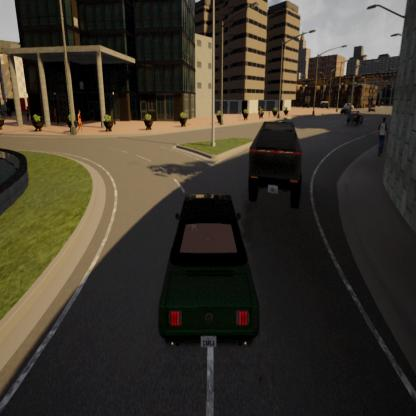Cars: (140, 184, 269, 357), (242, 114, 307, 217), (344, 108, 366, 126), (340, 101, 356, 116)
Pedestrian: (372, 114, 391, 164)
